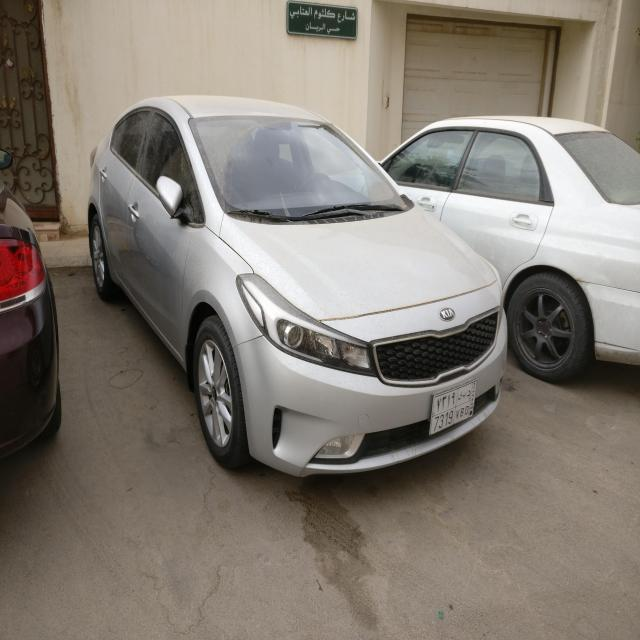license_plate: (431, 378, 479, 433)
